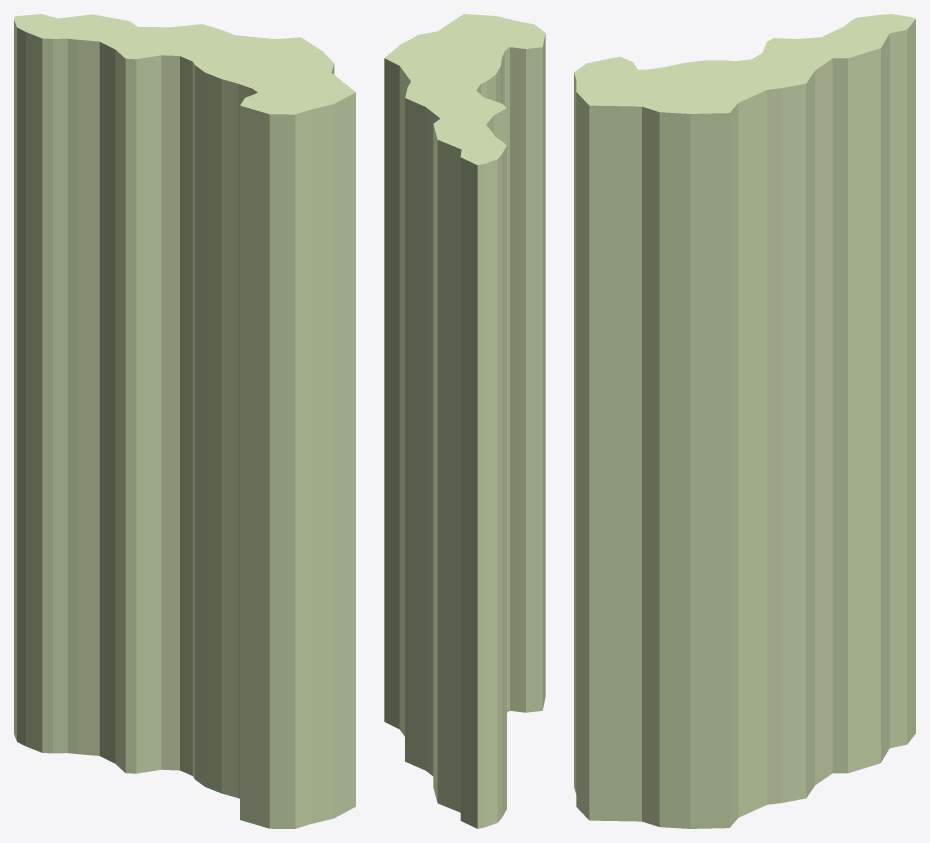
The model's file is woods_pine_2_centered_000.dae.
3 views of the same model, side by side, from view 1: azimuth 30°, elevation 25°; view 2: azimuth 150°, elevation 25°; view 3: azimuth 270°, elevation 25° (orthographic). The views are drawn at different scales.
Visible parts, largest first — view 1: Object; view 2: Object; view 3: Object.
Boxes of the visible parts, x1=… form: Object: x1=14, y1=14, x2=355, y2=828; Object: x1=384, y1=14, x2=545, y2=828; Object: x1=574, y1=14, x2=915, y2=828.
Size of the model in its own units: 2.29 by 3.3 by 7.62.
